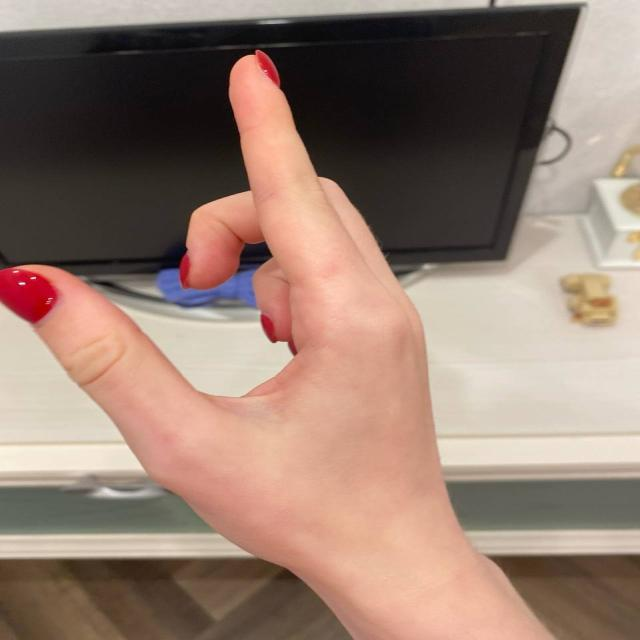b: (16, 38, 420, 435)
